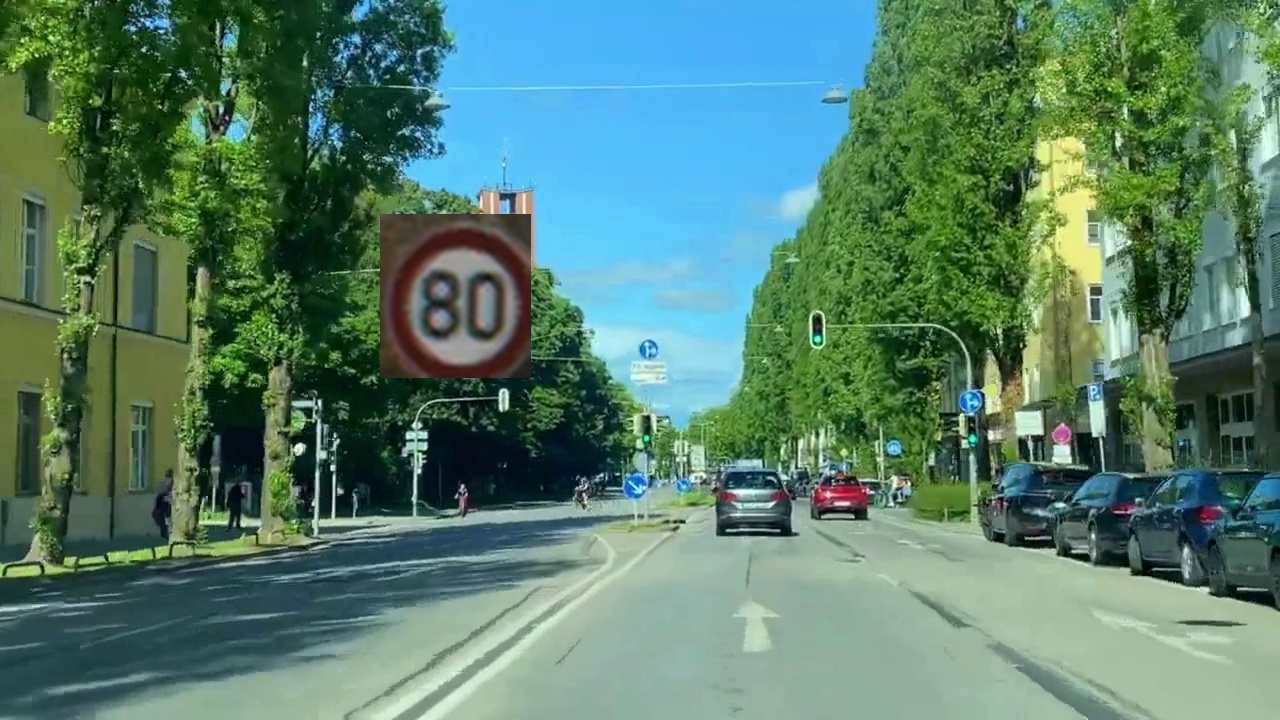Speed 80: (380, 214, 531, 378)
